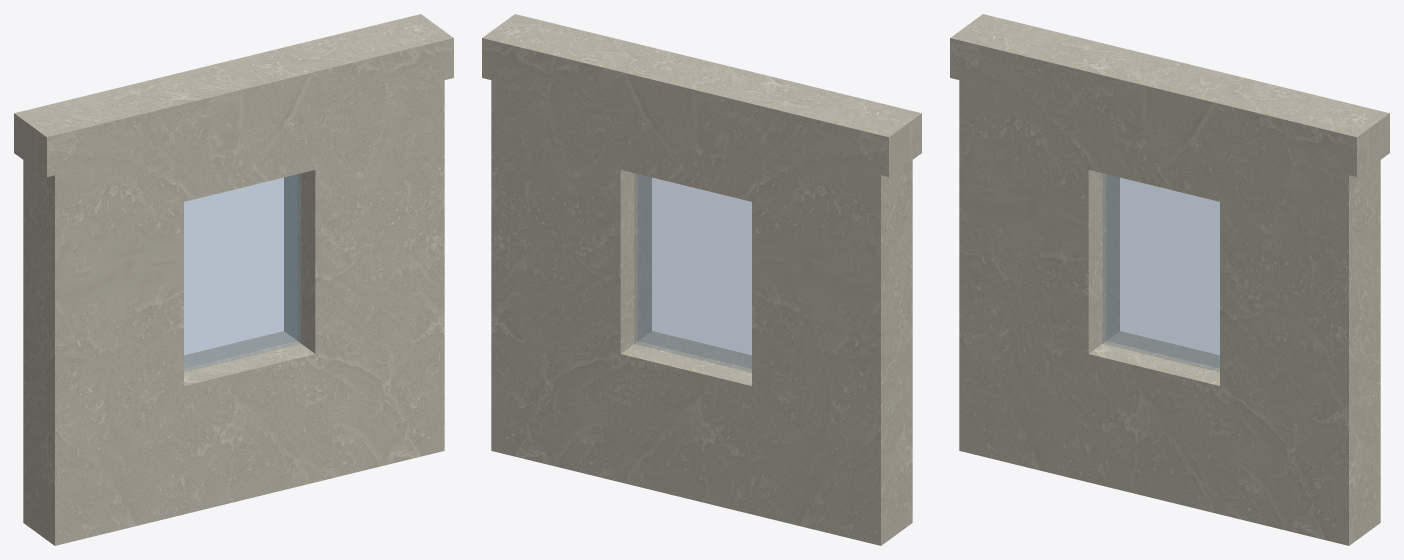
Rendered from AlabasterRectangularWindowedWall.001.glb.
3 renders of one model, left to right at view 1: azimuth 30°, elevation 25°; view 2: azimuth 150°, elevation 25°; view 3: azimuth 330°, elevation 25°, orthographic.
Visible parts, largest first — view 1: AlabasterRectangularWindowedWall.001; view 2: AlabasterRectangularWindowedWall.001; view 3: AlabasterRectangularWindowedWall.001.
Boxes of the visible parts, x1,y1,x2,y2 form: AlabasterRectangularWindowedWall.001: (14,14,453,545); AlabasterRectangularWindowedWall.001: (482,14,921,545); AlabasterRectangularWindowedWall.001: (950,14,1389,545).
Size of what is drawn, in the model's own units: 3.03 by 2.93 by 0.4241.
Materials: 2 (2 with a texture image).
